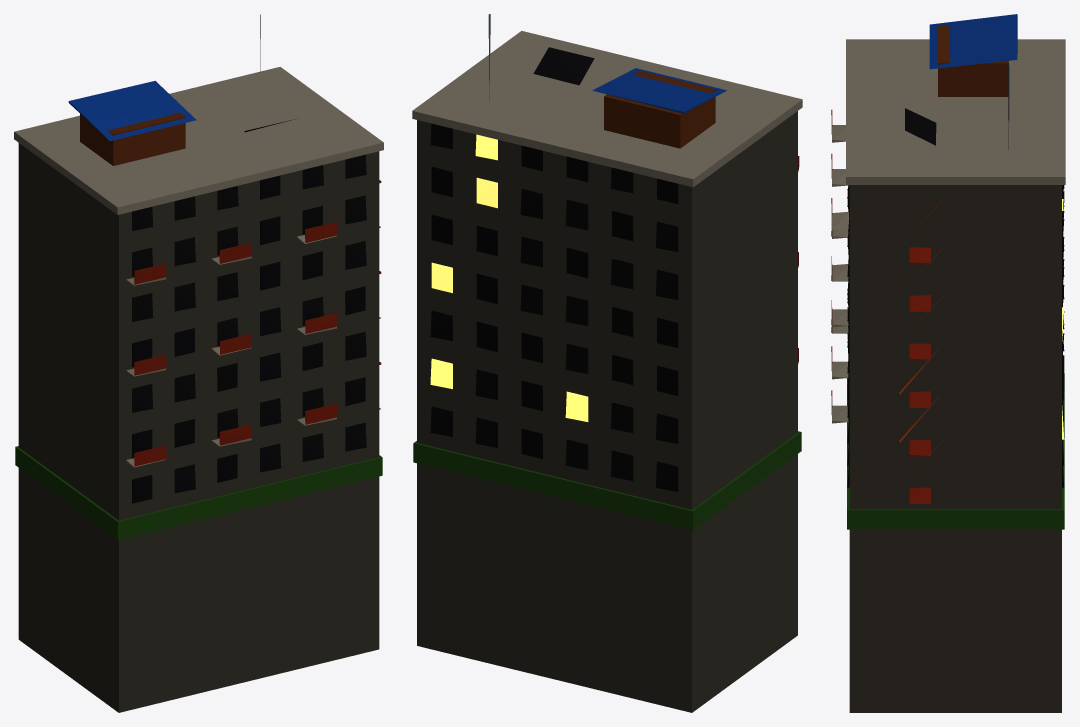
File: tb_tower_brick.three-web-toon.lod50.glb
The picture shows the model from 3 angles, left to right: view 1: azimuth 30°, elevation 25°; view 2: azimuth 150°, elevation 25°; view 3: azimuth 270°, elevation 25°; orthographic projection. The views are drawn at different scales.
Visible parts, largest first — view 1: tower_brick_body_lod; view 2: tower_brick_body_lod; view 3: tower_brick_body_lod.
Part boxes in pixels (<box>): tower_brick_body_lod: <box>14,14,383,712</box>; tower_brick_body_lod: <box>412,14,802,712</box>; tower_brick_body_lod: <box>831,14,1065,712</box>.
Bounding box in the file's own units: 20.3 × 39 × 13.23.
